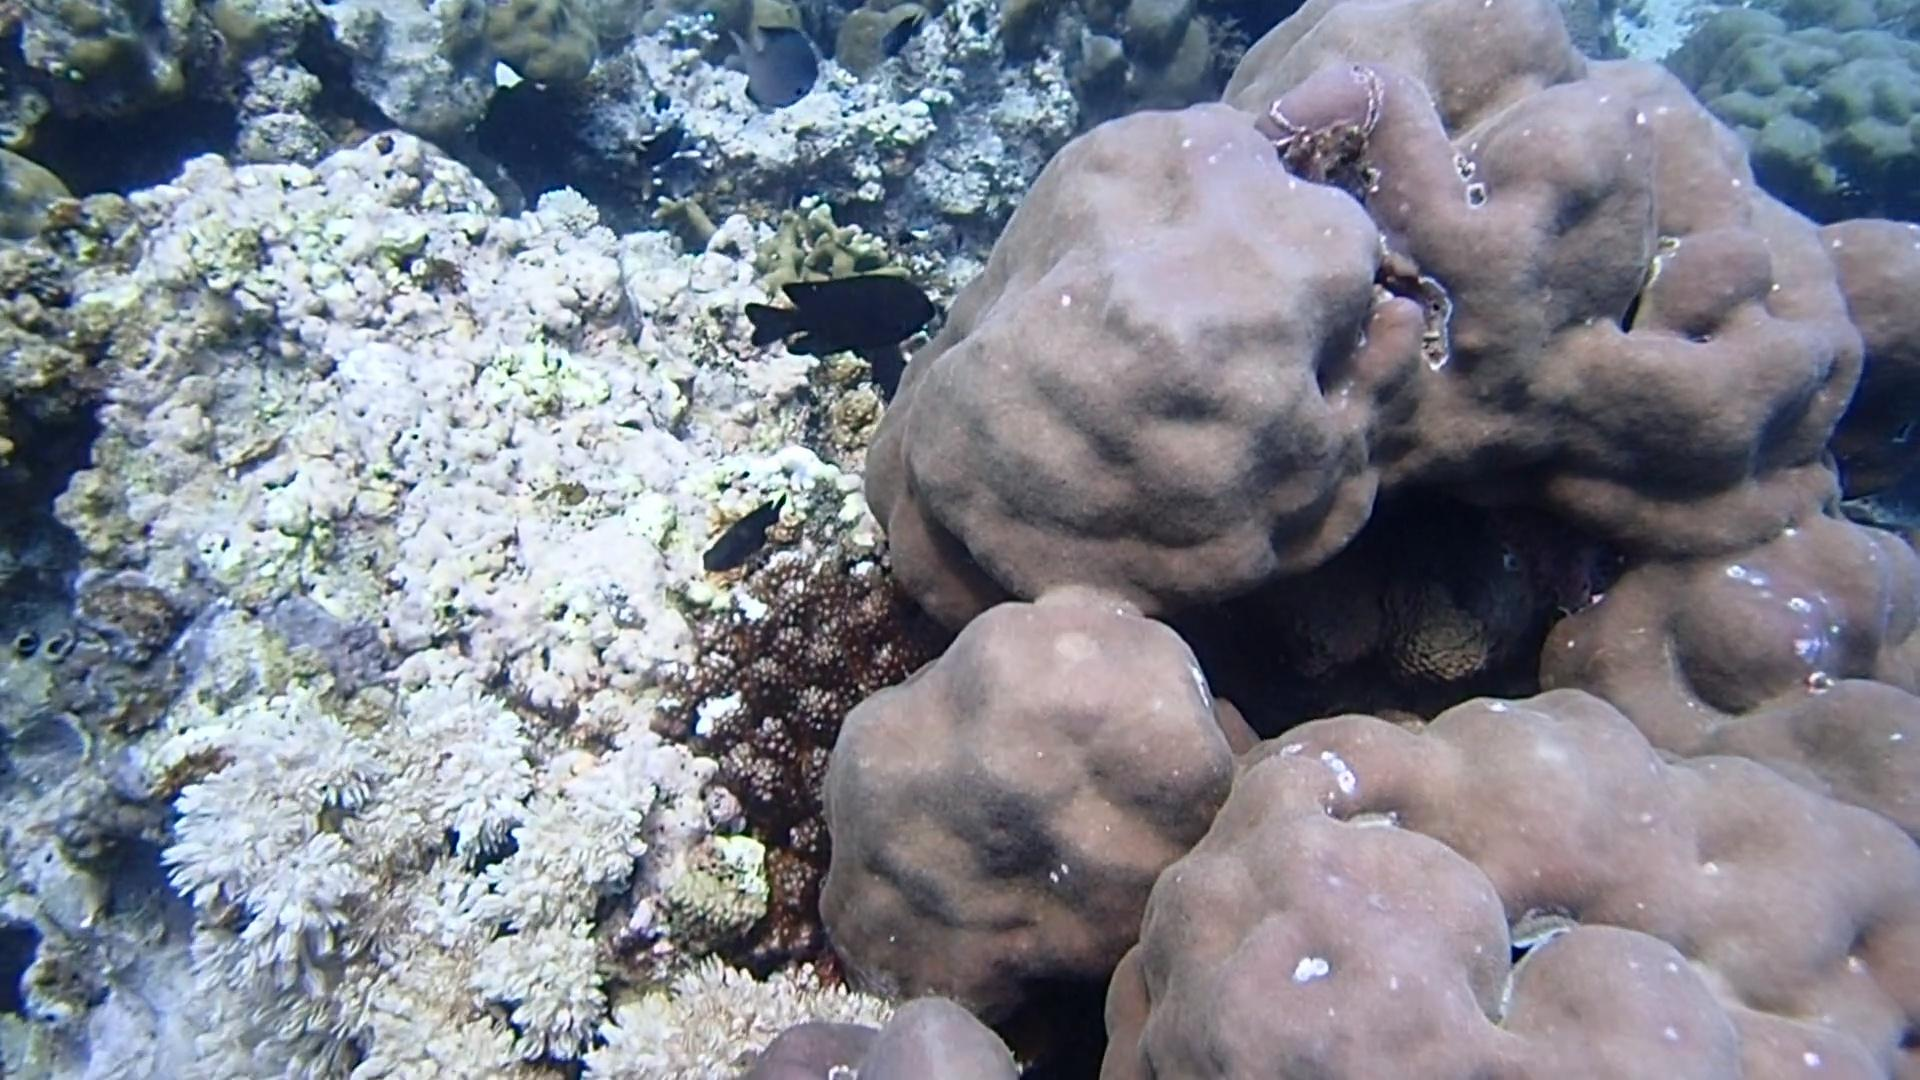Dark Fish: (742, 272, 945, 363), (694, 492, 795, 578), (634, 123, 688, 178), (876, 8, 927, 63)
Light Fish - Dark Fin: (715, 18, 825, 119)
